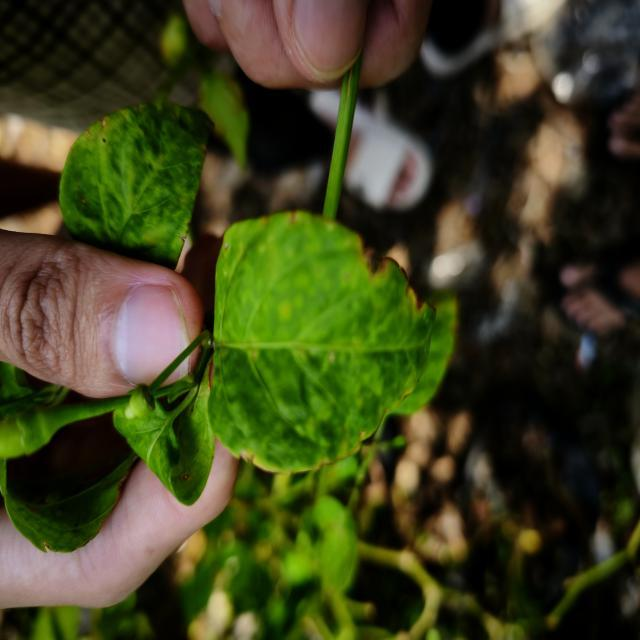Virus Kuning: (207, 208, 438, 476), (58, 98, 216, 272)
